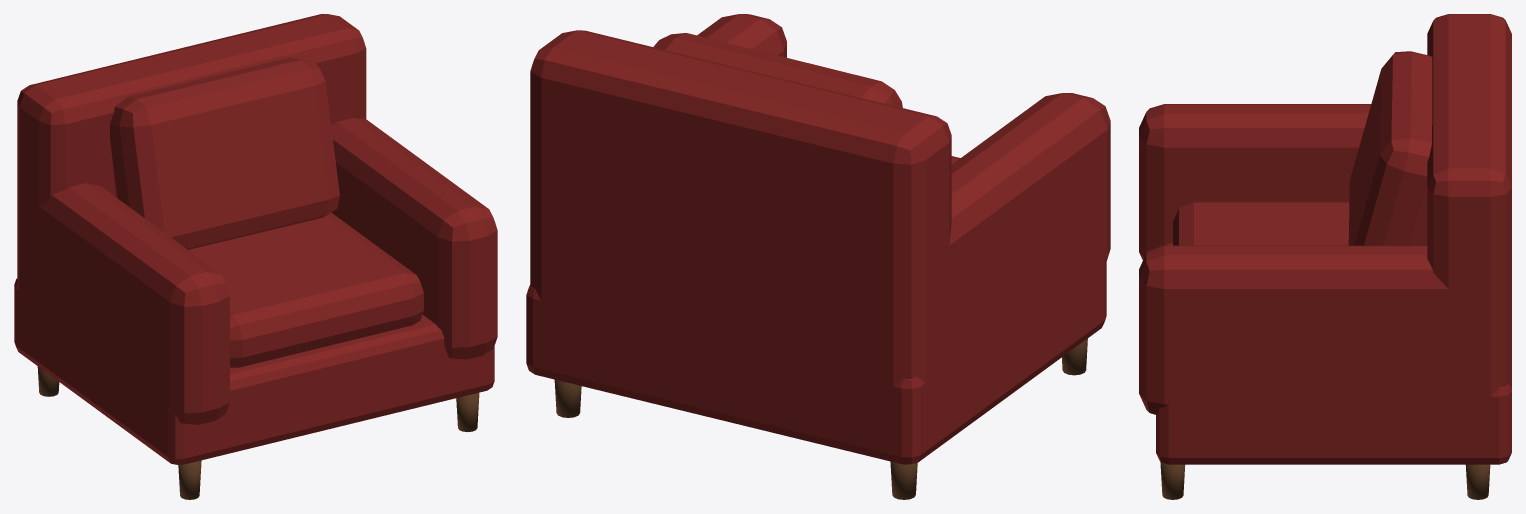
Rendered from Poltrona.fbx.
3 views of the same model, side by side, from view 1: azimuth 30°, elevation 25°; view 2: azimuth 150°, elevation 25°; view 3: azimuth 270°, elevation 25° (orthographic). The views are drawn at different scales.
Visible parts, largest first — view 1: Poltrona; view 2: Poltrona; view 3: Poltrona.
Part boxes in pixels (x1,y1,x2,y2): Poltrona: (14,14,497,499); Poltrona: (526,14,1110,499); Poltrona: (1139,14,1511,499).
Bounding box in the file's own units: 0.96 × 0.86 × 0.88.
